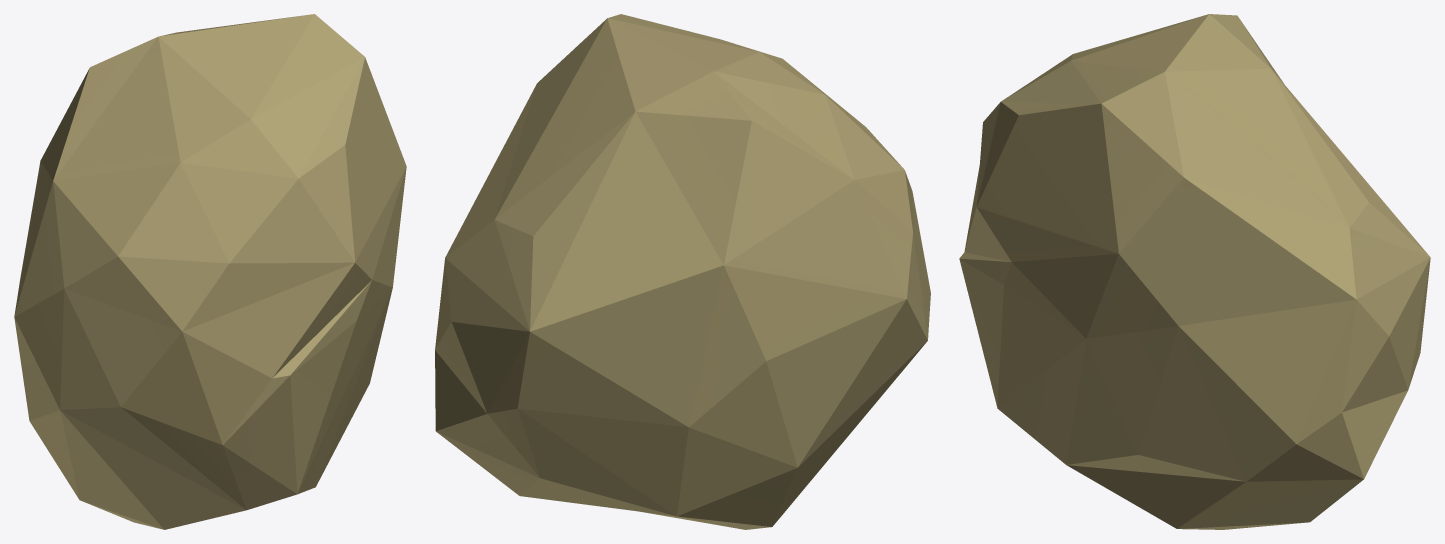
The model's file is SM_small_rock_51.fbx.
3 views of the same model, side by side, from view 1: azimuth 30°, elevation 25°; view 2: azimuth 150°, elevation 25°; view 3: azimuth 270°, elevation 25° (orthographic). The views are drawn at different scales.
Parts seen in each view (by area): view 1: small_rock_51; view 2: small_rock_51; view 3: small_rock_51.
Boxes of the visible parts, box(x1,y1,x2,y2) form: small_rock_51: box(14, 14, 406, 529); small_rock_51: box(435, 14, 930, 529); small_rock_51: box(959, 14, 1430, 529).
Size of the model in its own units: 107 by 122 by 110.
